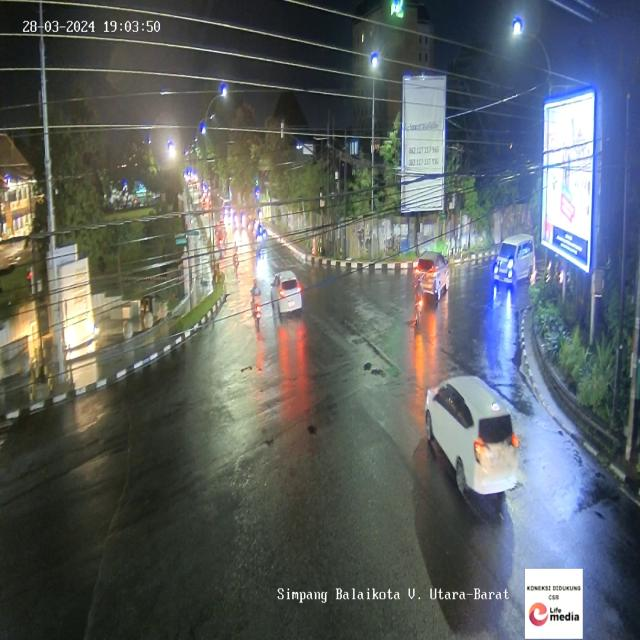car: (426, 374, 521, 509), (492, 233, 535, 291), (412, 248, 452, 304), (272, 269, 304, 317)
motorcycle: (249, 277, 264, 330), (412, 280, 422, 327), (233, 242, 241, 276), (217, 228, 224, 251)
